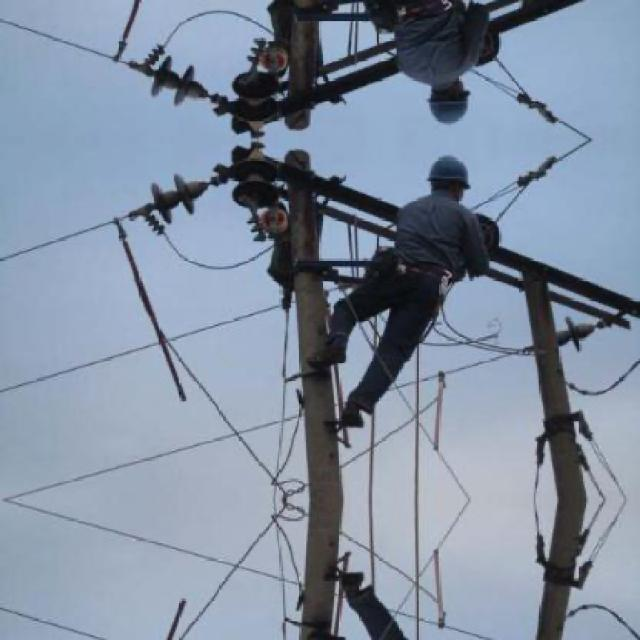con casco: (400, 144, 490, 201), (408, 79, 488, 128)
